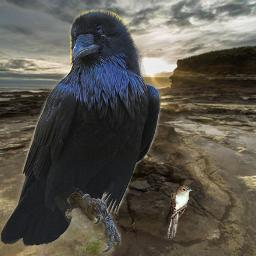Crow: (1, 9, 161, 253)
Cuckoo: (167, 185, 193, 238)
